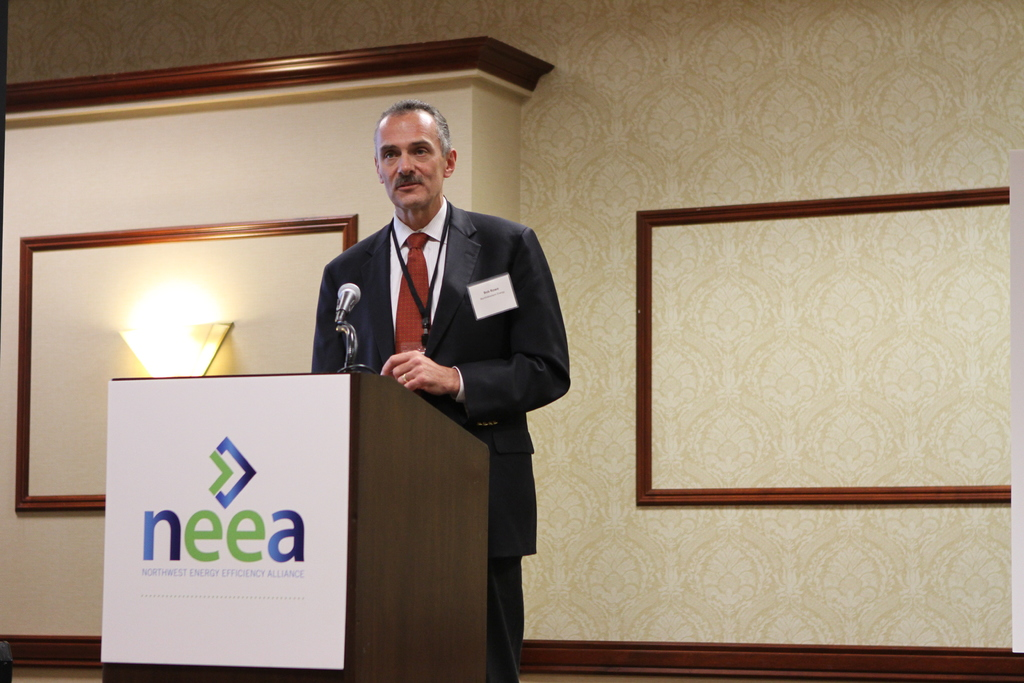Person: (311, 97, 570, 682)
